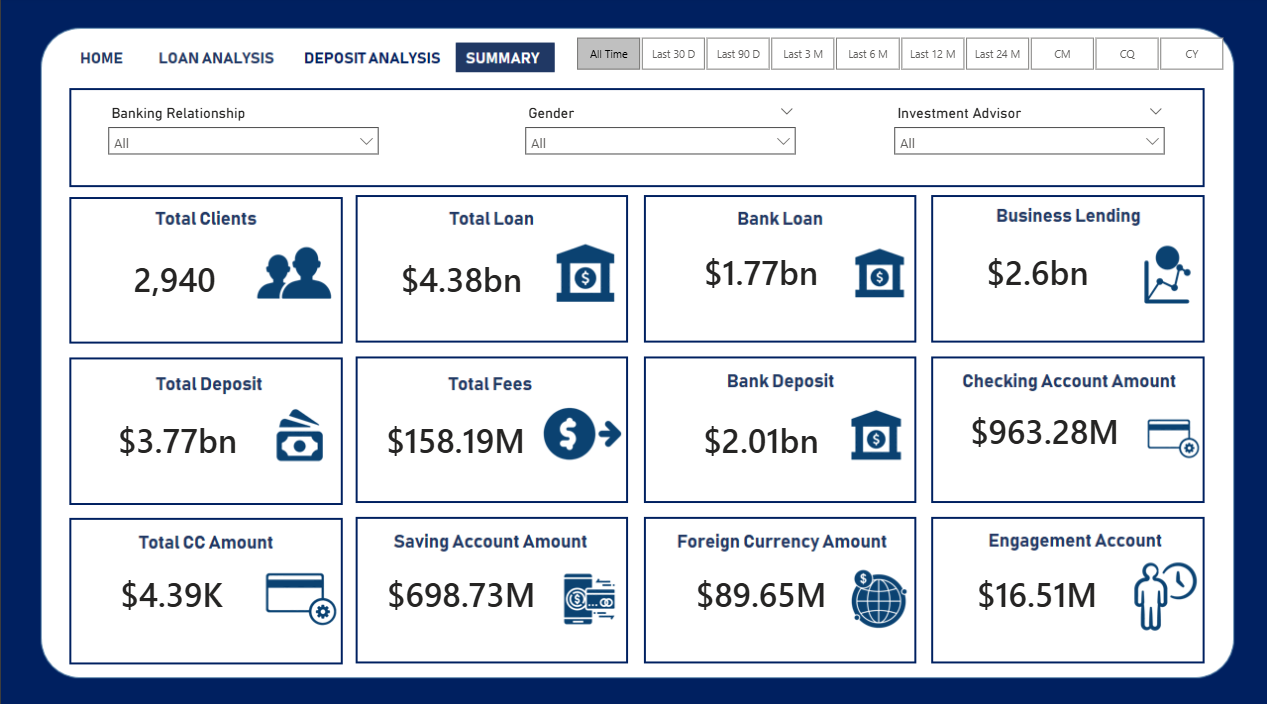

What the dashboard file says about the page in this screenshot:
{"tool":"powerbi","page":{"name":"Summary","canvas":[1280,720],"ordinal":3},"visuals":[{"type":"card","fields":{"Values":["DAX Measures.Engagment Length"]},"box":[946.3,546.4,198.2,114.9],"z":0},{"type":"card","fields":{"Values":["DAX Measures.Foreign Currency Account"]},"box":[667.2,546.4,198.2,114.9],"z":1000},{"type":"card","fields":{"Values":["DAX Measures.Bank Deposit"]},"box":[667.2,390.5,198.2,114.9],"z":2000},{"type":"card","fields":{"Values":["DAX Measures.Checking Accounts"]},"box":[953.4,382.3,198.2,114.9],"z":3000},{"type":"card","fields":{"Values":["DAX Measures.Bank Loan"]},"box":[667.2,220.5,198.2,114.9],"z":4000},{"type":"card","fields":{"Values":["DAX Measures.Business Lending"]},"box":[953.4,220.5,184.1,114.9],"z":5000},{"type":"card","fields":{"Values":["DAX Measures.Savings Account"]},"box":[360,546.4,207.6,114.9],"z":6000},{"type":"card","fields":{"Values":["DAX Measures.Total CC Amount"]},"box":[72.7,546.4,198.2,114.9],"z":7000},{"type":"card","fields":{"Values":["DAX Measures.Total Deposit"]},"box":[78.6,390.5,198.2,114.9],"z":8000},{"type":"card","fields":{"Values":["DAX Measures.Total Fees"]},"box":[365.9,390.5,184.1,114.9],"z":9000},{"type":"card","fields":{"Values":["DAX Measures.Total Clients"]},"box":[75,228.7,198.2,114.9],"z":10000},{"type":"card","fields":{"Values":["DAX Measures.Total Loan"]},"box":[365.9,228.7,195.8,114.9],"z":11000},{"type":"slicer","fields":{"Values":["Banking Relationship.Banking Relationship"]},"box":[98.5,104.3,292.9,75.7],"z":12000},{"type":"slicer","fields":{"Values":["Gender.Gender"]},"box":[518.9,104.3,292.9,75.7],"z":13000},{"type":"slicer","fields":{"Values":["Investment Advisor.Investment Advisor"]},"box":[891.3,104.3,292.9,75.7],"z":14000},{"type":"slicer","fields":{"Values":["Period.Name"]},"box":[555.2,34.6,702.1,46.6],"z":15000},{"type":"actionButton","box":[72.8,44.2,58.5,31],"z":16000},{"type":"actionButton","box":[306.9,44.7,119.4,31],"z":17000},{"type":"actionButton","box":[297.9,44.6,147.8,30.5],"z":18000},{"type":"actionButton","box":[157.1,44.6,125.5,30.5],"z":19000}]}

Visuals, with their boxes in screenshot pixels (x1, y1, x2, y2), scaled from the page's 1280x720 canvas onto the 1267x704 screenshot:
card - DAX Measures.Engagment Length: region(937, 534, 1133, 647)
card - DAX Measures.Foreign Currency Account: region(660, 534, 857, 647)
card - DAX Measures.Bank Deposit: region(660, 382, 857, 494)
card - DAX Measures.Checking Accounts: region(944, 374, 1140, 486)
card - DAX Measures.Bank Loan: region(660, 216, 857, 328)
card - DAX Measures.Business Lending: region(944, 216, 1126, 328)
card - DAX Measures.Savings Account: region(356, 534, 562, 647)
card - DAX Measures.Total CC Amount: region(72, 534, 268, 647)
card - DAX Measures.Total Deposit: region(78, 382, 274, 494)
card - DAX Measures.Total Fees: region(362, 382, 544, 494)
card - DAX Measures.Total Clients: region(74, 224, 270, 336)
card - DAX Measures.Total Loan: region(362, 224, 556, 336)
slicer - Banking Relationship.Banking Relationship: region(97, 102, 387, 176)
slicer - Gender.Gender: region(514, 102, 804, 176)
slicer - Investment Advisor.Investment Advisor: region(882, 102, 1172, 176)
slicer - Period.Name: region(550, 34, 1245, 79)
actionButton: region(72, 43, 130, 74)
actionButton: region(304, 44, 422, 74)
actionButton: region(295, 44, 441, 73)
actionButton: region(156, 44, 280, 73)
